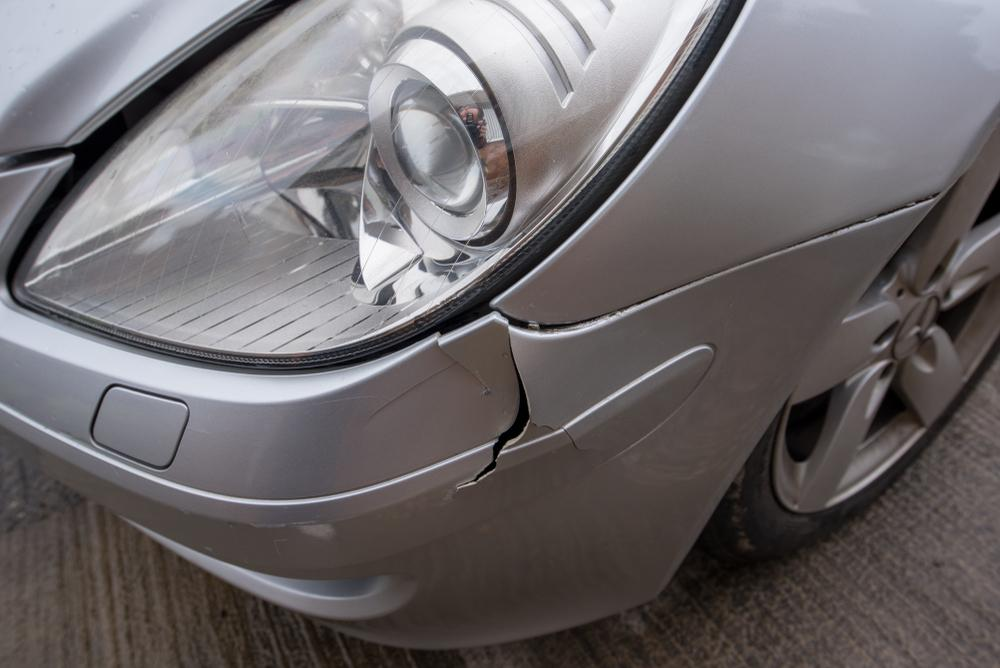crack: (452, 323, 606, 501), (364, 336, 491, 430)
